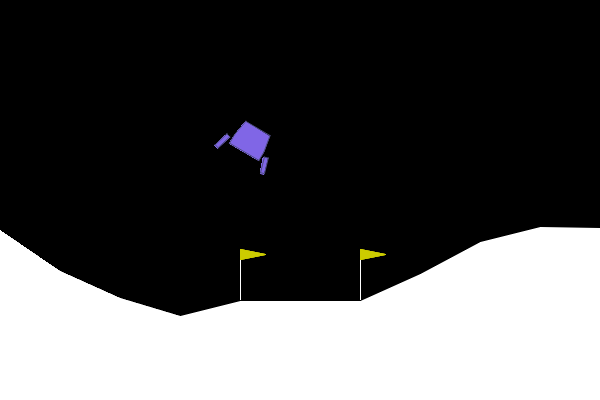lander: (212, 112, 284, 177)
